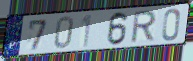0: (52, 15, 75, 51), (161, 8, 182, 43)
1: (80, 14, 92, 48)
6: (105, 11, 130, 47)
7: (27, 18, 49, 52)
R: (129, 9, 159, 45)
